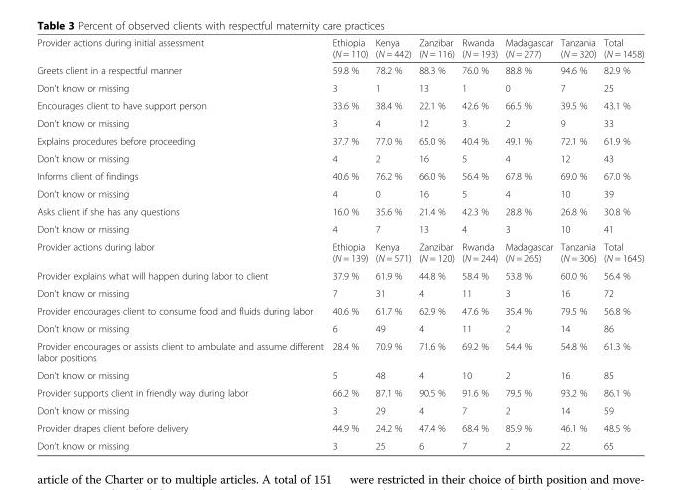table: (36, 36, 643, 451)
table column: (36, 36, 327, 451), (500, 36, 556, 451), (327, 36, 371, 451), (599, 36, 643, 451), (371, 36, 414, 451), (414, 36, 457, 451), (457, 36, 500, 451), (556, 36, 599, 451)
table row: (36, 237, 643, 266), (36, 337, 643, 366), (36, 36, 643, 61), (36, 78, 643, 96), (36, 96, 643, 114), (36, 131, 643, 149), (36, 166, 643, 184), (36, 184, 643, 202), (36, 219, 643, 237), (36, 266, 643, 284), (36, 301, 643, 319), (36, 319, 643, 337), (36, 383, 643, 401), (36, 418, 643, 436), (36, 61, 643, 78), (36, 114, 643, 131), (36, 149, 643, 166), (36, 202, 643, 219), (36, 284, 643, 301), (36, 366, 643, 383), (36, 401, 643, 418), (36, 436, 643, 451)
